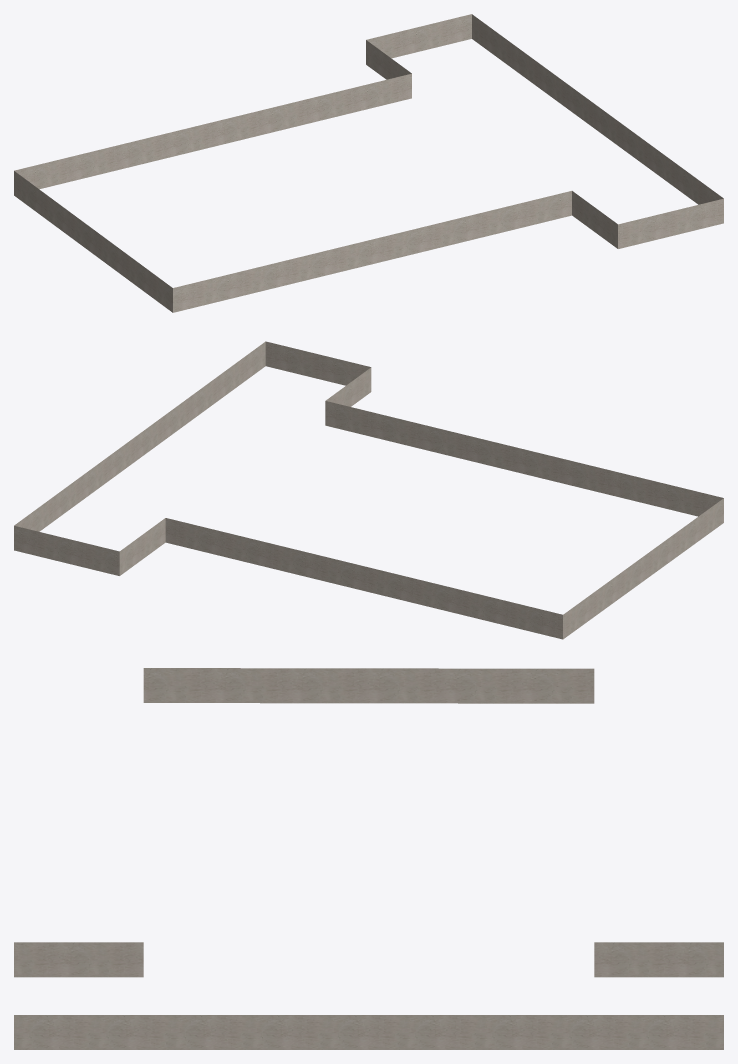
Rendered from pasted__gold_ornament01_bump_2.fbx.
3 renders of one model, top to bottom at view 1: azimuth 30°, elevation 25°; view 2: azimuth 150°, elevation 25°; view 3: azimuth 270°, elevation 25°, orthographic. The views are drawn at different scales.
Parts seen in each view (by area): view 1: pasted__gold_ornament01_bump_2; view 2: pasted__gold_ornament01_bump_2; view 3: pasted__gold_ornament01_bump_2.
Boxes of the visible parts, x1,y1,x2,y2 form: pasted__gold_ornament01_bump_2: (14,14,723,312); pasted__gold_ornament01_bump_2: (14,341,723,639); pasted__gold_ornament01_bump_2: (14,668,723,1049).
Size of the model in its own units: 929 by 804 by 43.66.
